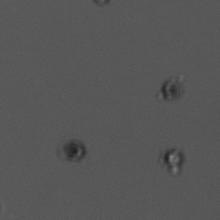Dead Cell: (58, 139, 86, 163), (160, 148, 185, 173), (159, 78, 184, 100)
